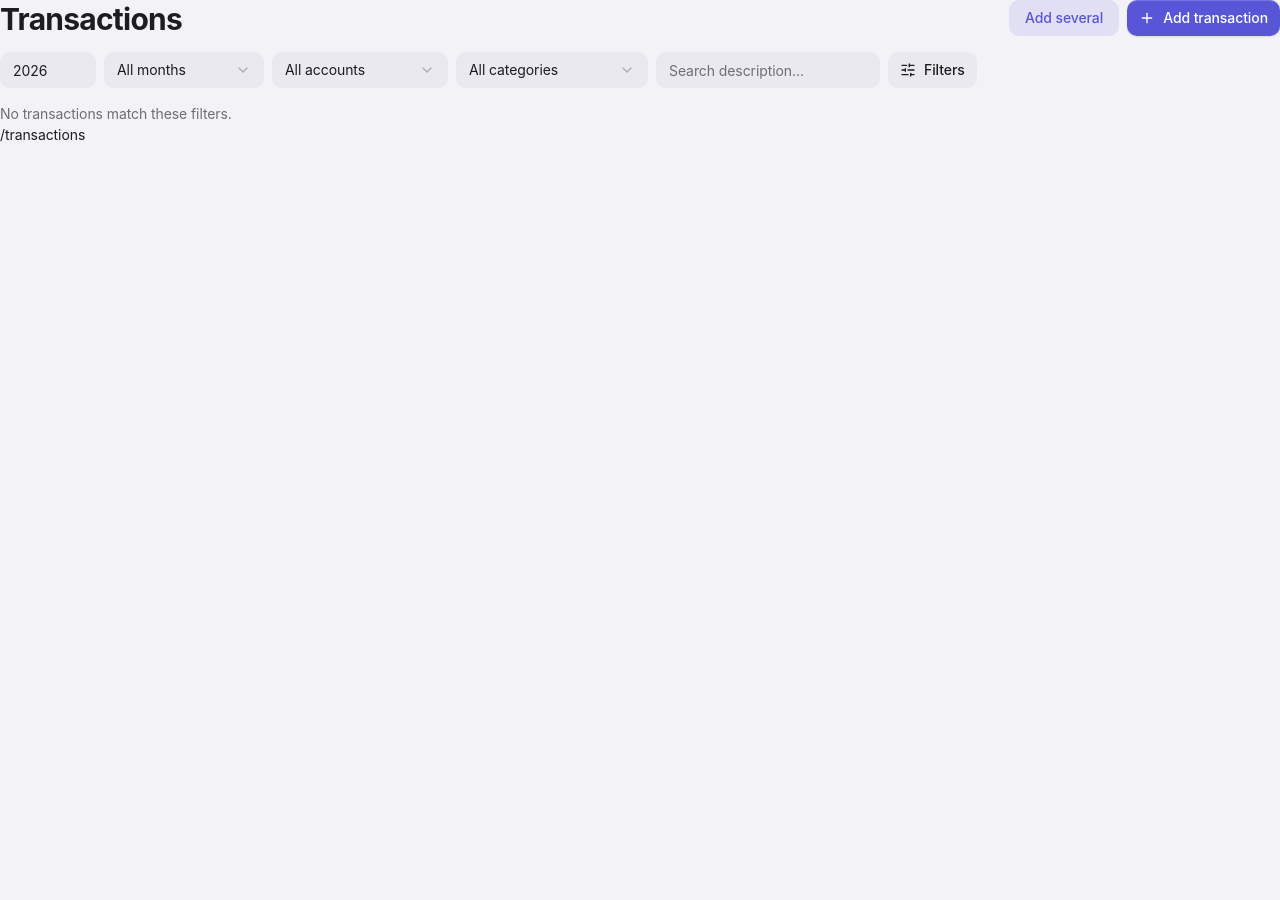
Test case: Transaction form › drops a category that doesn't fit when switching direction
Click the button "Add transaction" at (1204, 18), box [1127, 0, 1279, 36]
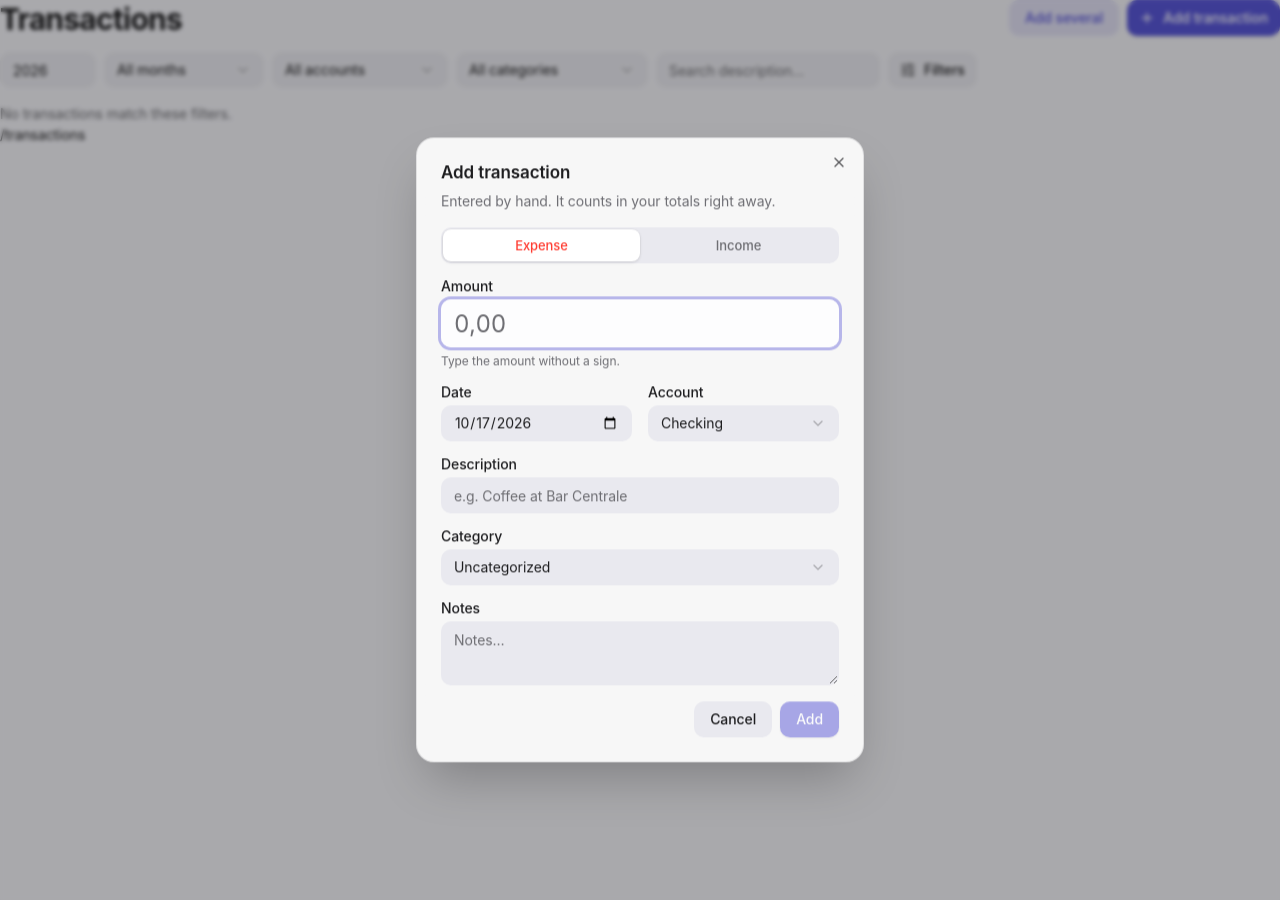
Click the dropdown named "Category" at (502, 567), box [441, 550, 839, 586]
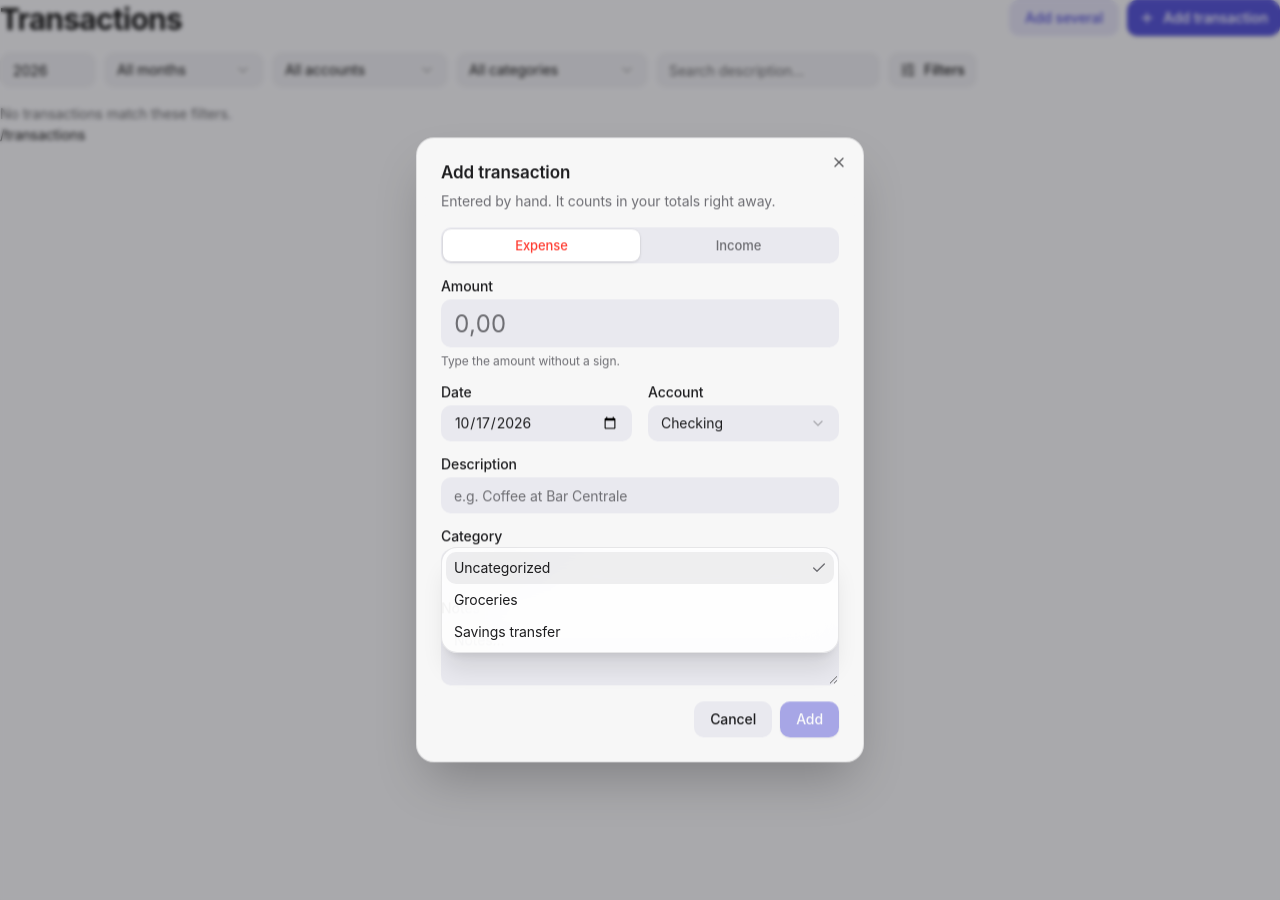
Click the option "Groceries" at (486, 599), box [454, 591, 518, 608]
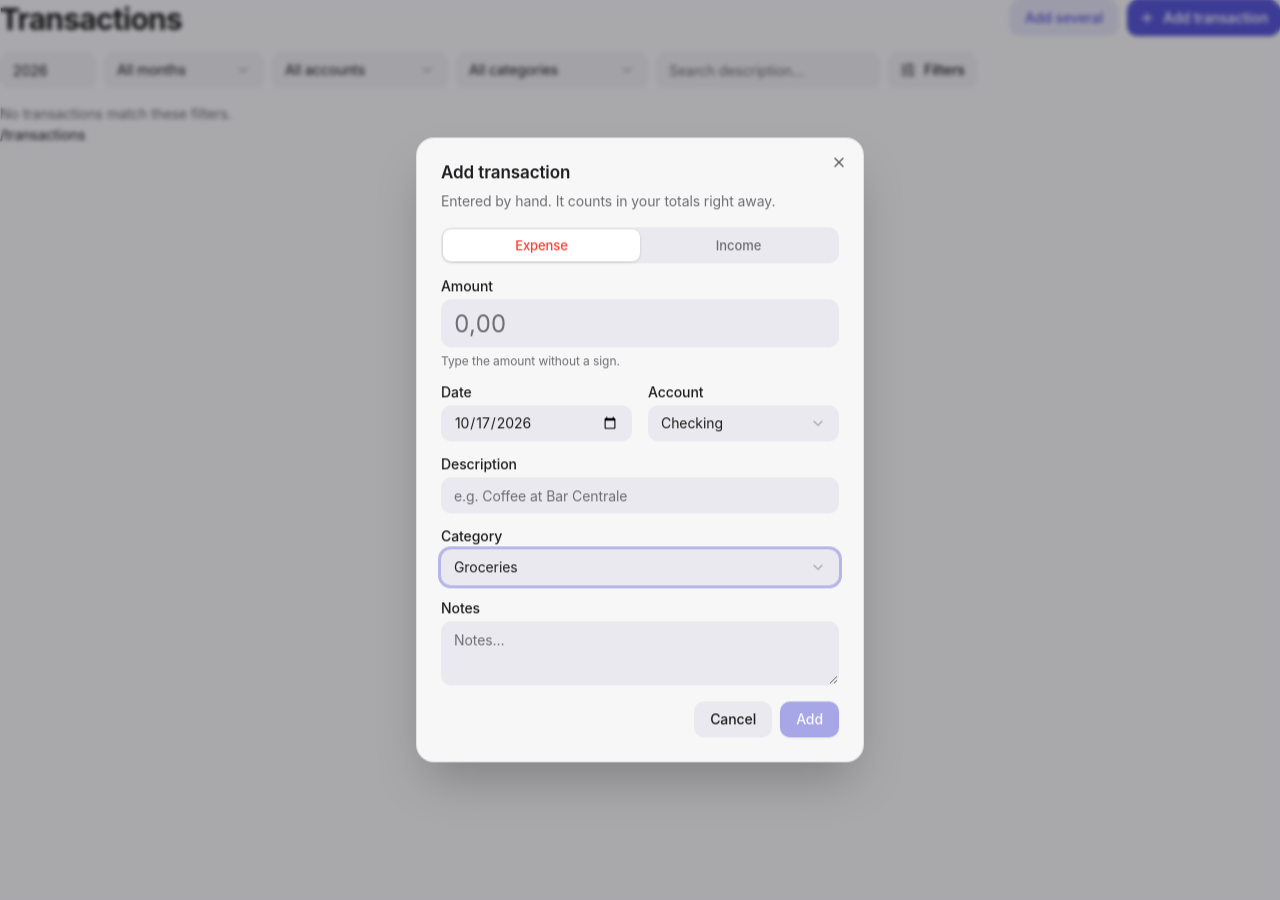
Click the radio button labelled "Income" at (738, 246), box [640, 230, 837, 262]
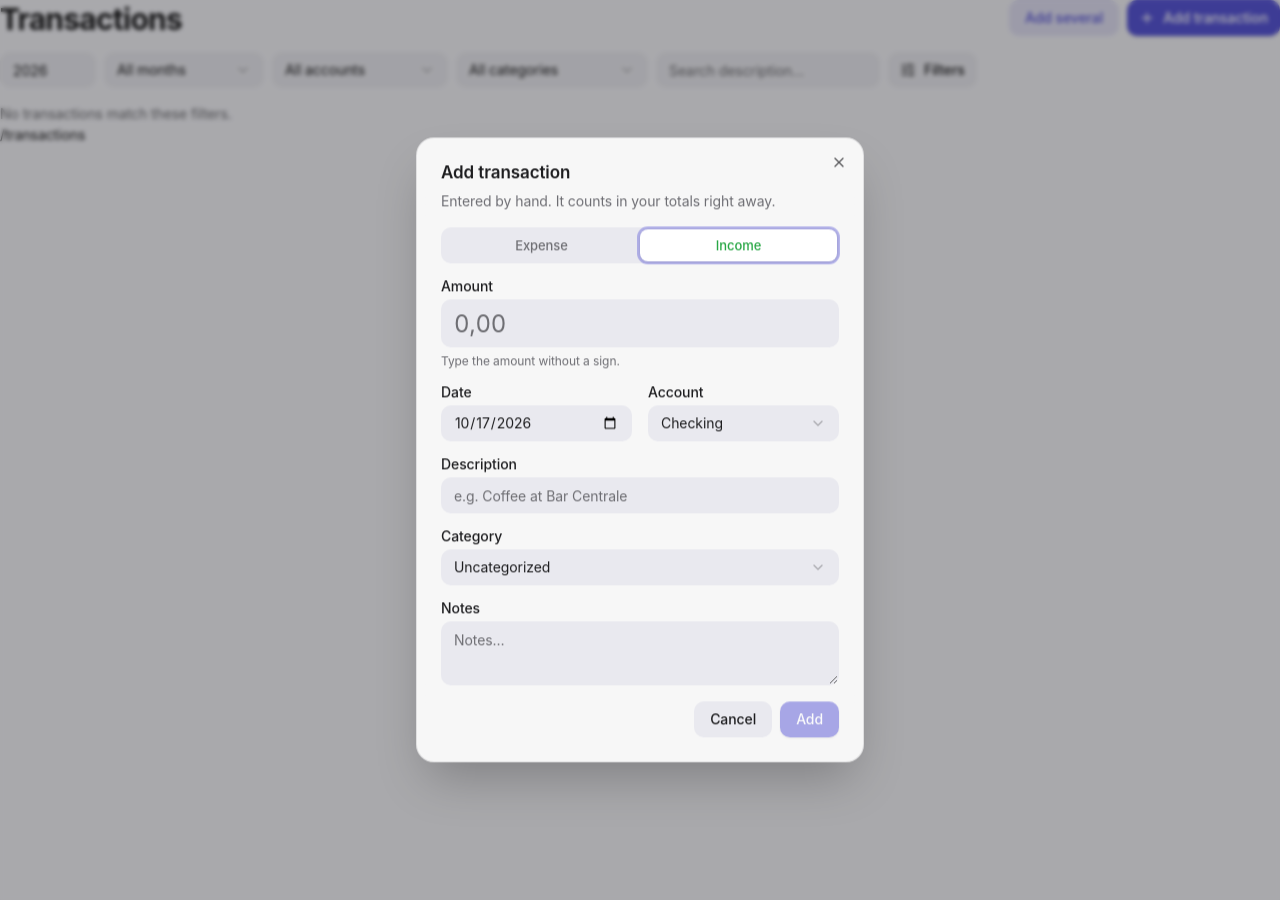
Now the dropdown named "Category" reads "Uncategorized", box [441, 550, 839, 586]
